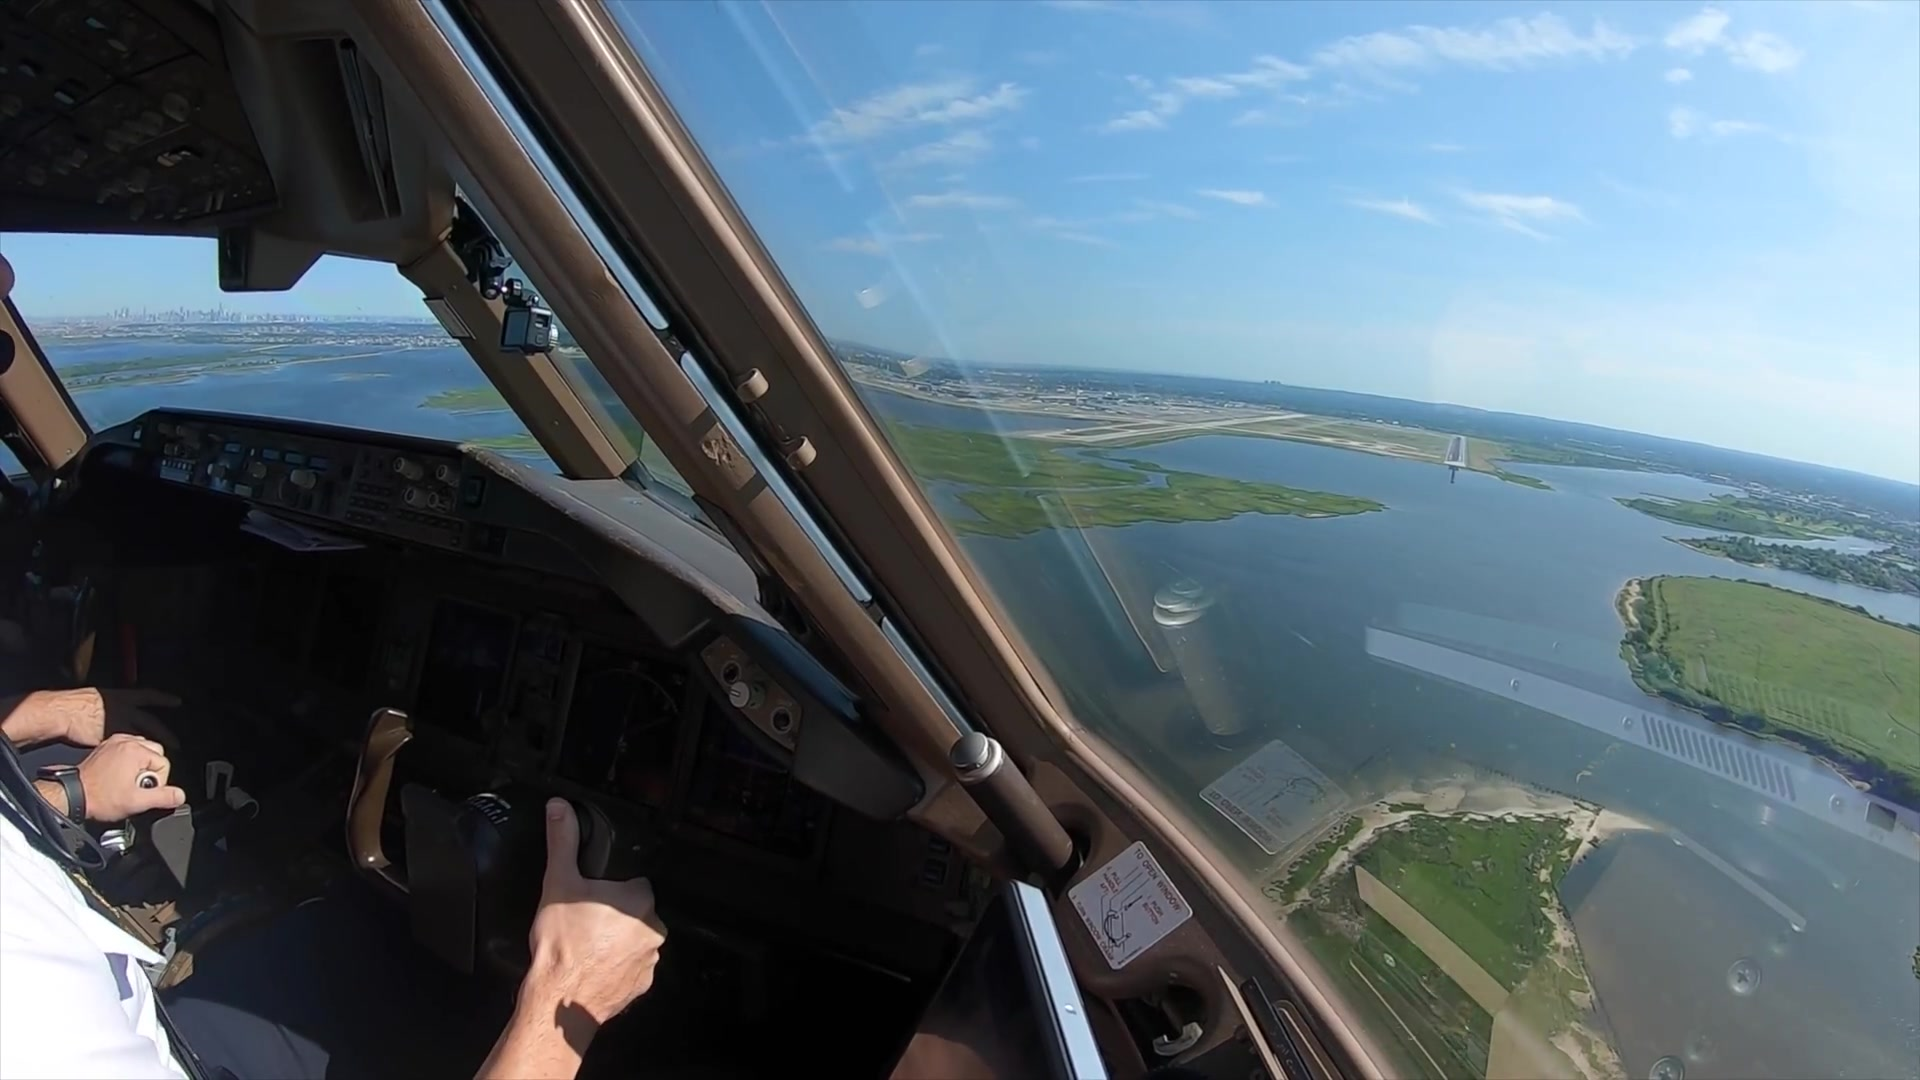runway: (1441, 435, 1466, 468)
